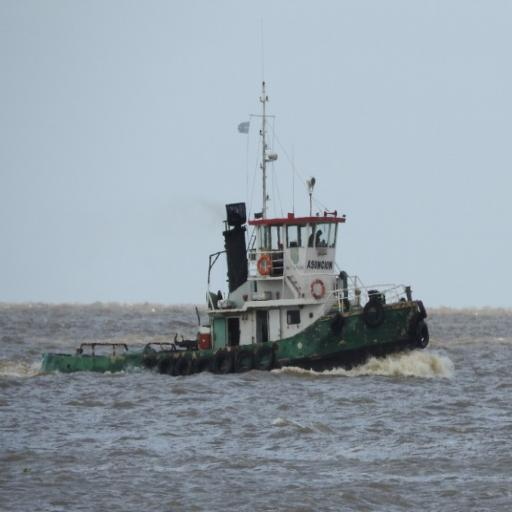tugboat: (35, 199, 435, 389)
